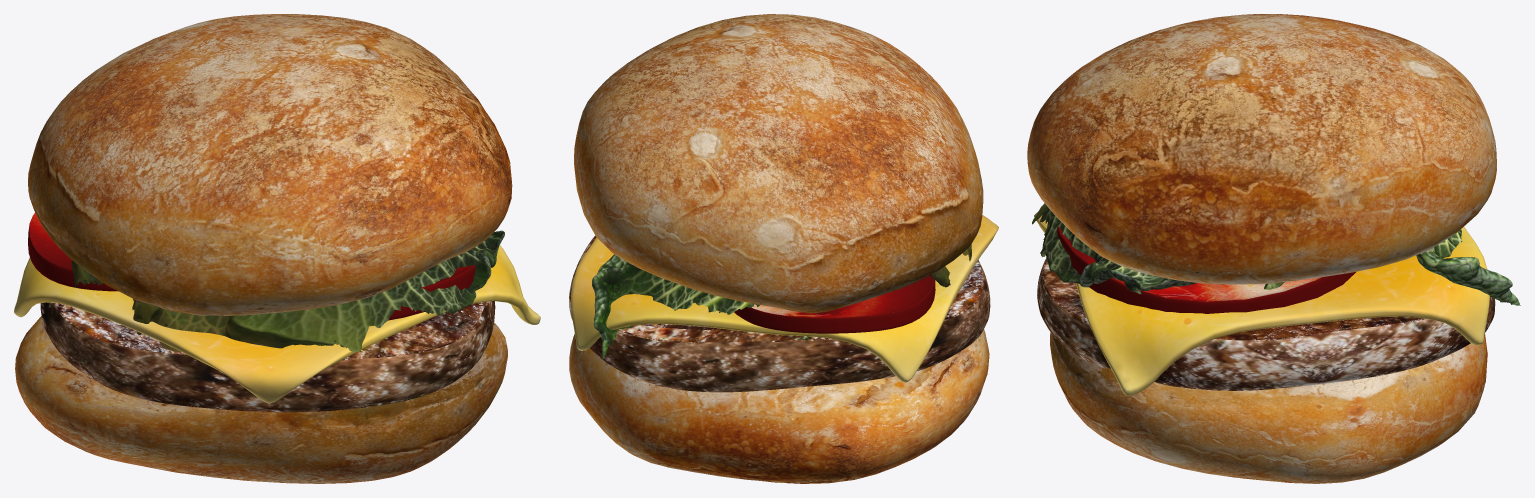
File: burger.glb
3 views of the same model, side by side, from view 1: azimuth 30°, elevation 25°; view 2: azimuth 150°, elevation 25°; view 3: azimuth 270°, elevation 25° (orthographic). The views are drawn at different scales.
Visible parts, largest first — view 1: Bread2B_Bread2A_0, Patty2_PattyB_0, Cheese2_Cheese_0, Cabbage2_Cabbage2_0, Patty2_PattyA_0, Tomato003_Tomato_0, Tomato003_TomatoA_0; view 2: Bread2B_Bread2A_0, Patty2_PattyB_0, Cheese2_Cheese_0, Cabbage2_Cabbage2_0, Tomato003_Tomato_0, Patty2_PattyA_0, Tomato003_TomatoA_0; view 3: Bread2B_Bread2A_0, Cheese2_Cheese_0, Patty2_PattyB_0, Cabbage2_Cabbage2_0, Tomato003_Tomato_0, Patty2_PattyA_0, Tomato003_TomatoA_0.
Boxes of the visible parts, x1,y1,x2,y2 form: Bread2B_Bread2A_0: [15, 14, 512, 483]; Patty2_PattyB_0: [40, 301, 495, 412]; Cheese2_Cheese_0: [14, 245, 540, 403]; Cabbage2_Cabbage2_0: [71, 230, 504, 352]; Patty2_PattyA_0: [54, 302, 485, 358]; Tomato003_Tomato_0: [28, 219, 475, 320]; Tomato003_TomatoA_0: [29, 213, 473, 286]; Bread2B_Bread2A_0: [569, 14, 989, 483]; Patty2_PattyB_0: [569, 235, 990, 392]; Cheese2_Cheese_0: [570, 215, 998, 382]; Cabbage2_Cabbage2_0: [592, 244, 971, 358]; Tomato003_Tomato_0: [734, 279, 935, 333]; Patty2_PattyA_0: [586, 237, 983, 342]; Tomato003_TomatoA_0: [751, 275, 933, 317]; Bread2B_Bread2A_0: [1027, 14, 1496, 483]; Cheese2_Cheese_0: [1034, 212, 1489, 395]; Patty2_PattyB_0: [1037, 257, 1495, 390]; Cabbage2_Cabbage2_0: [1032, 203, 1520, 305]; Tomato003_Tomato_0: [1057, 225, 1356, 313]; Patty2_PattyA_0: [1044, 261, 1422, 340]; Tomato003_TomatoA_0: [1058, 227, 1320, 301].
Bounding box in the file's own units: 27.95 × 25.27 × 29.53.
Materials: 7 (6 with a texture image).
